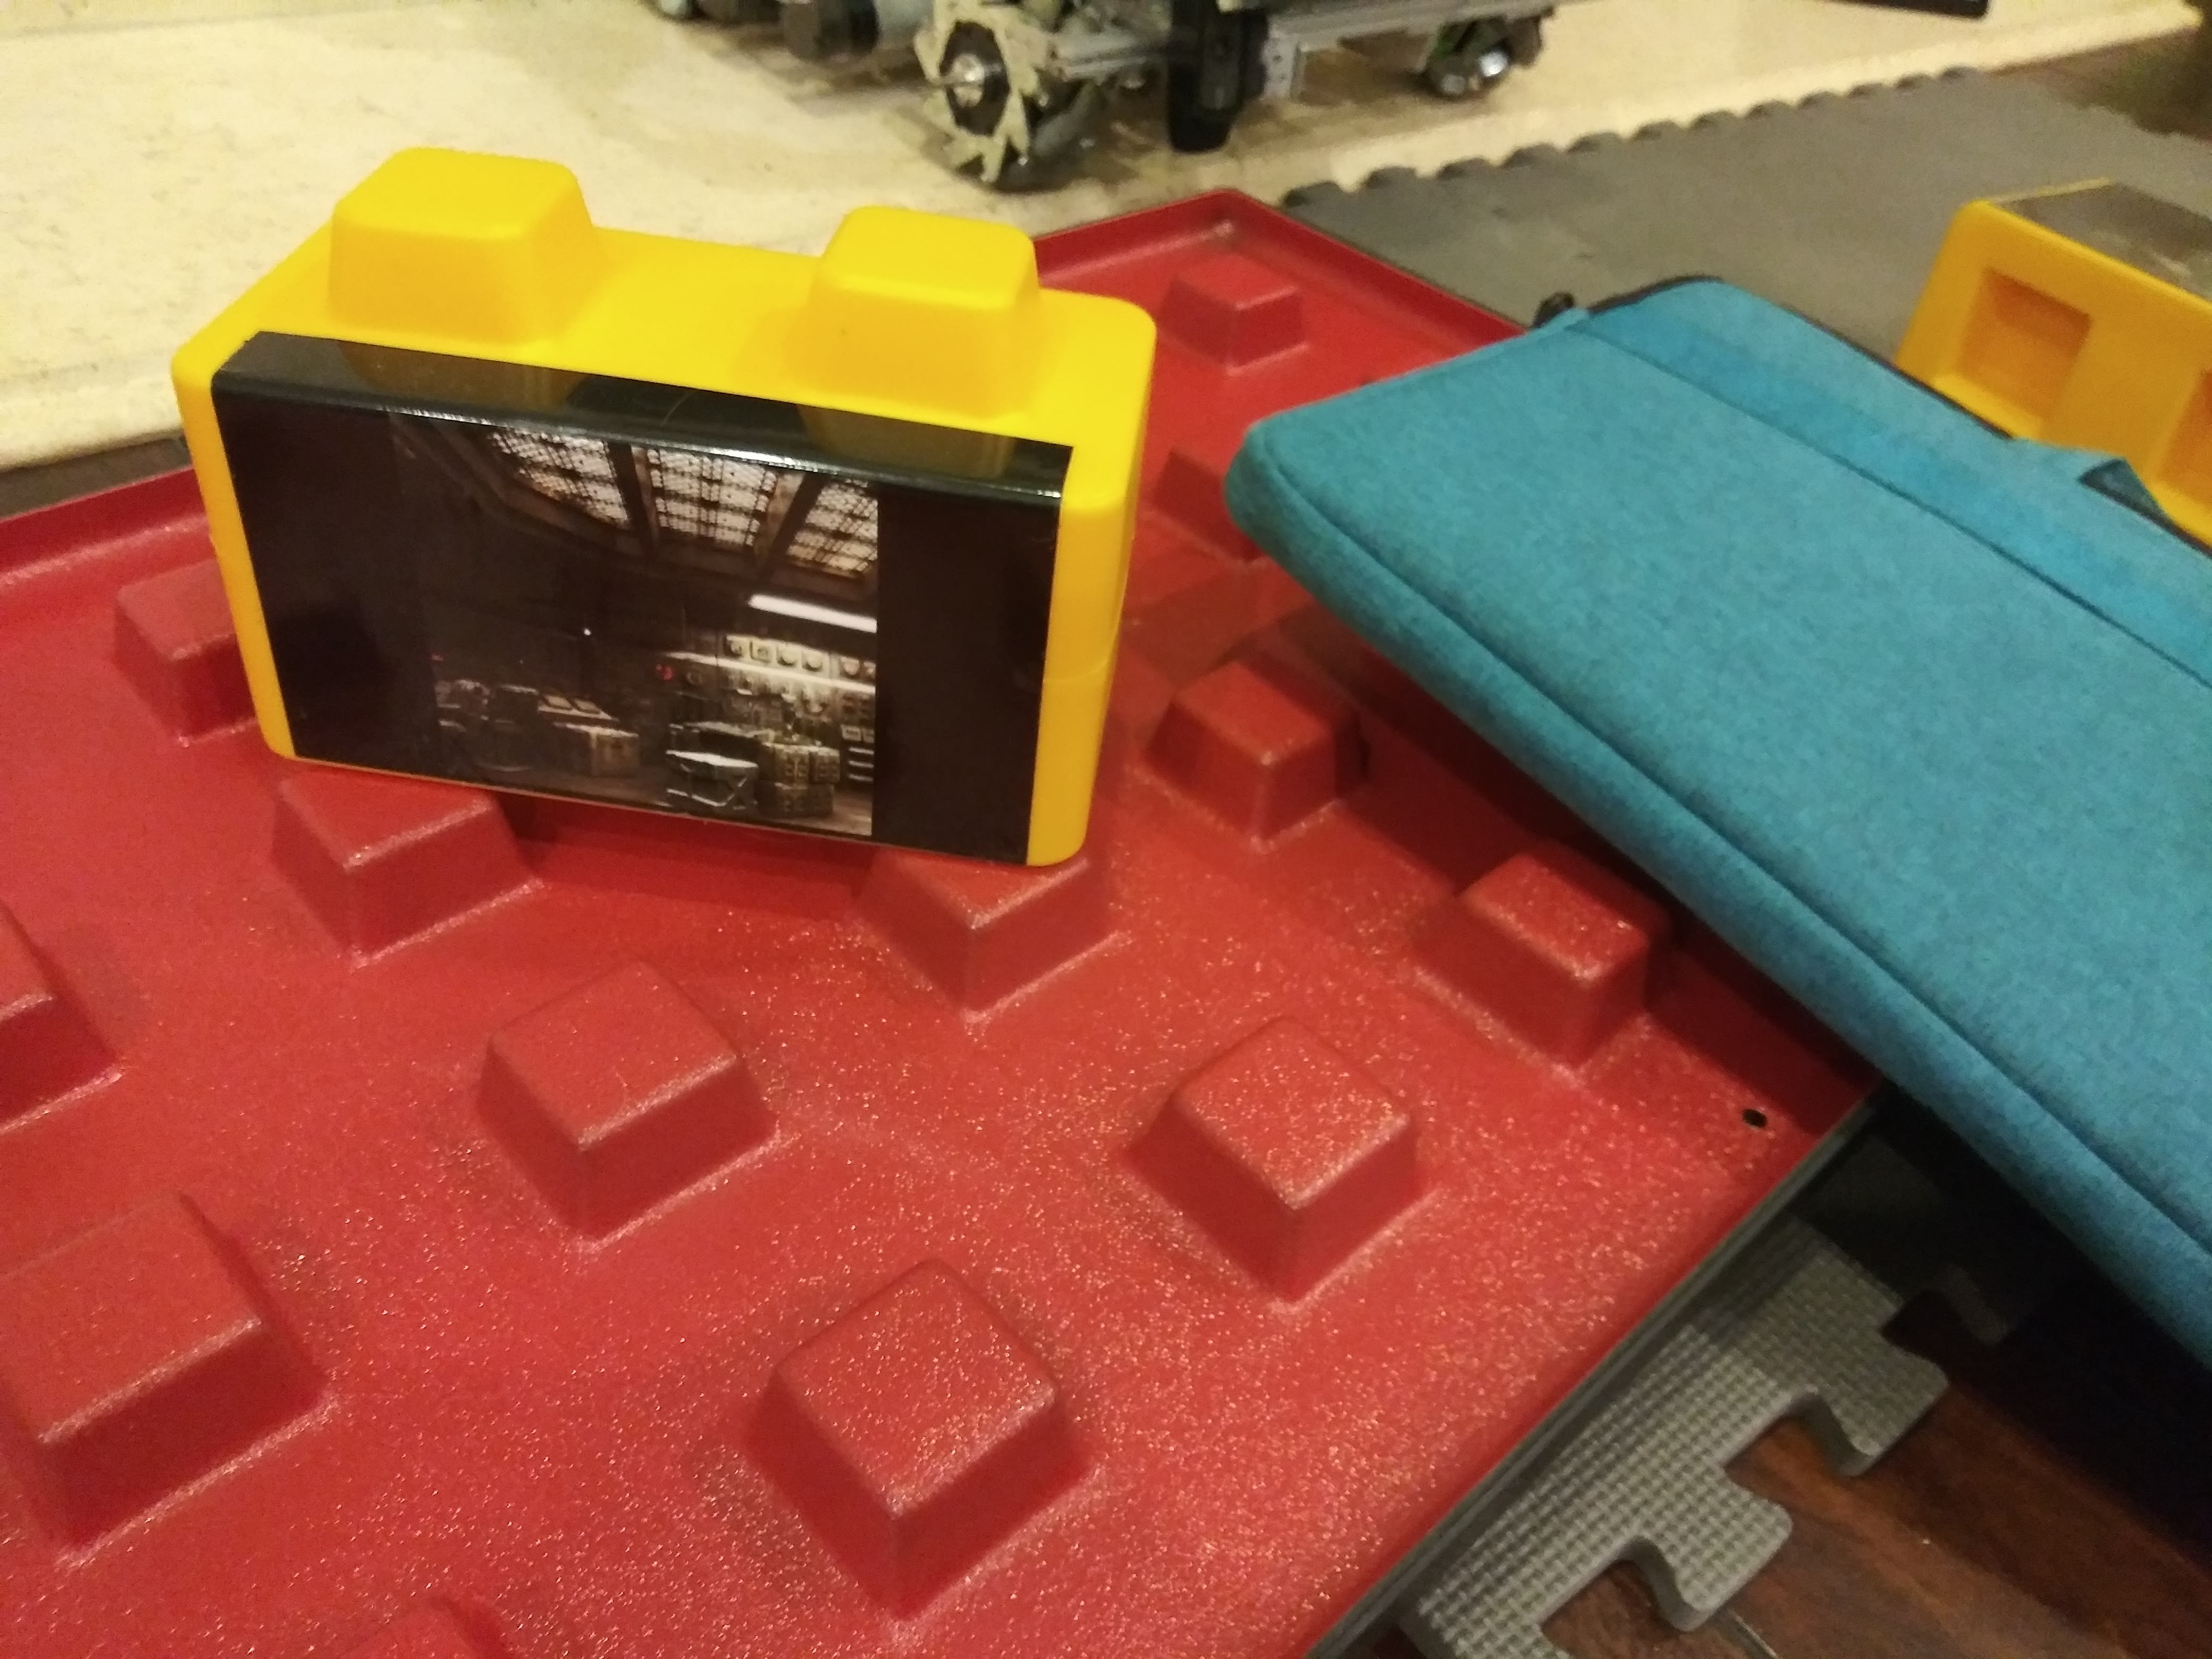skystone: (172, 277, 1123, 884)
